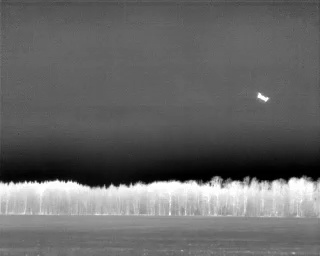DRONE: (253, 88, 273, 106)
